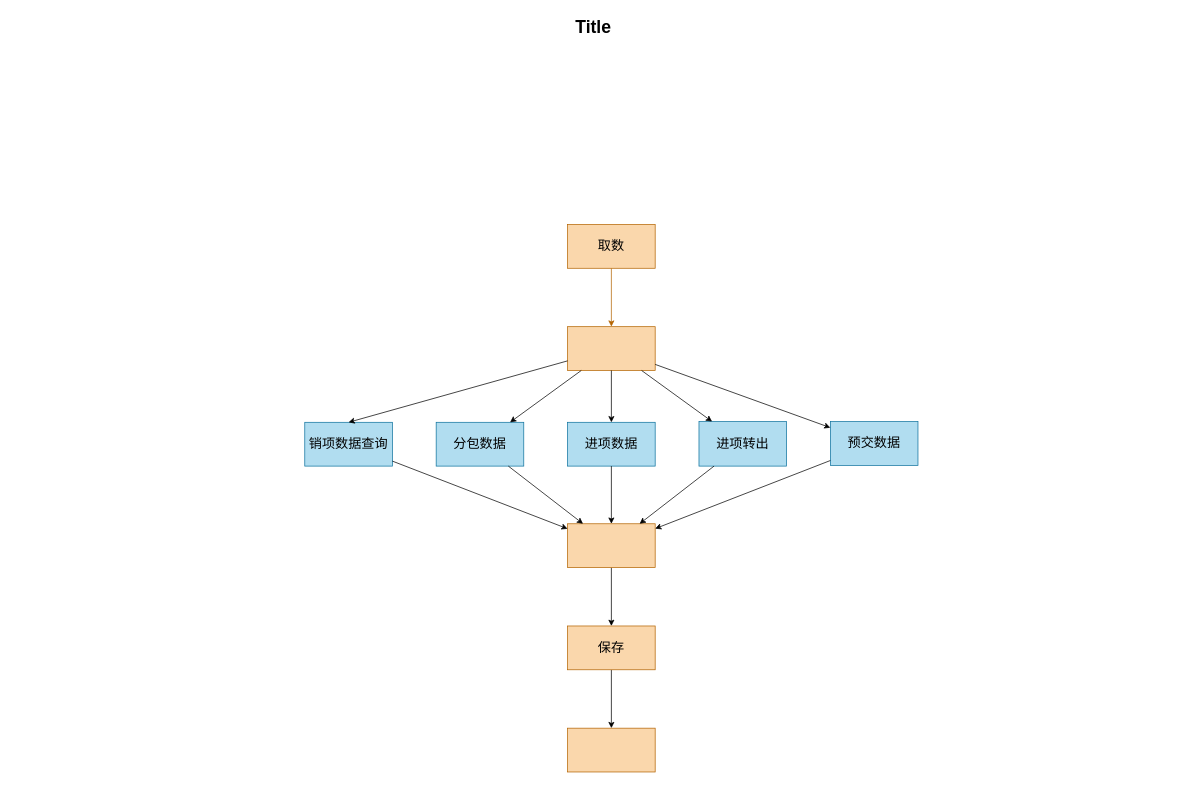
Some shapes in this 1186 by 785 pixel diagram are drawn without their labels. Each missing label, with the centre of its shape:
任务: (x=611, y=348)
汇总: (x=611, y=545)
返回: (x=611, y=749)
